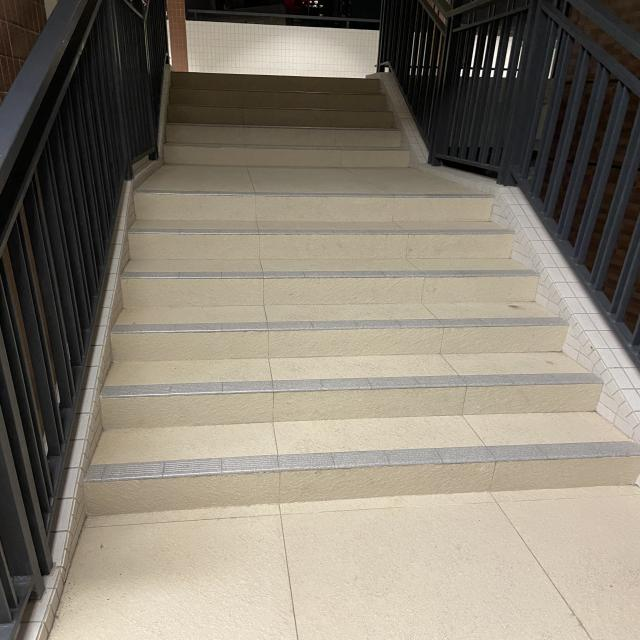Stairs: (75, 180, 640, 514), (132, 51, 433, 186)
